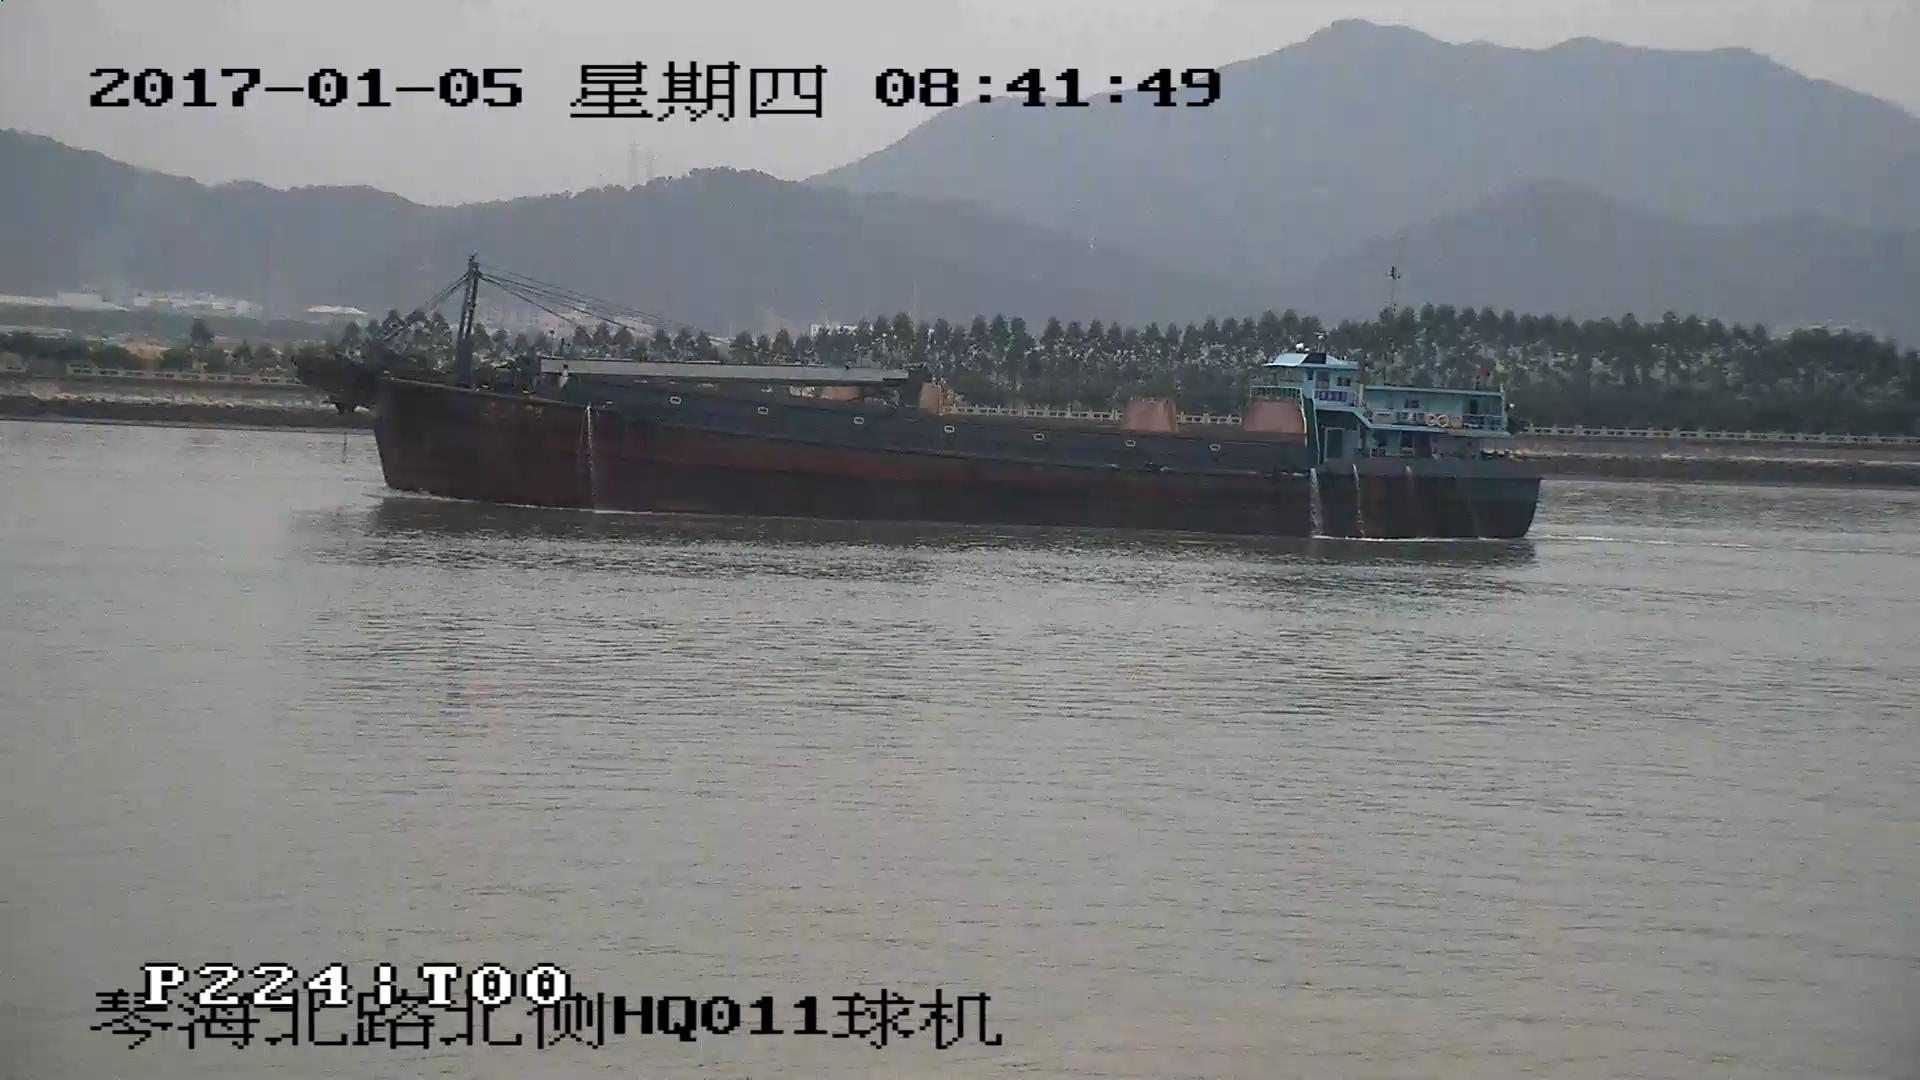bulk cargo carrier: (288, 266, 1541, 538)
